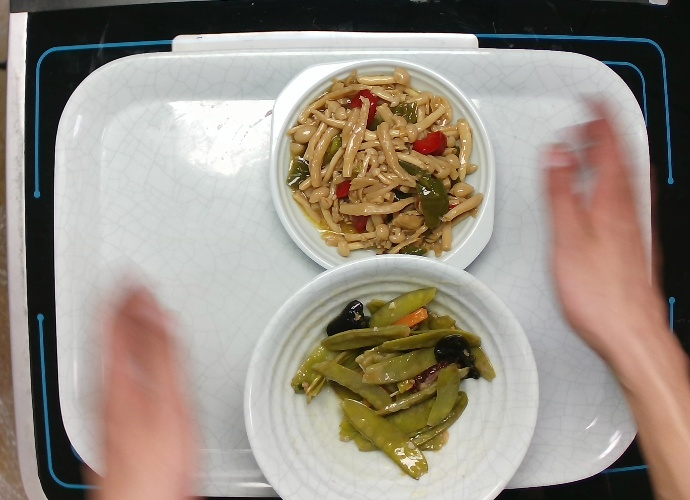JYsf-Shuang_Er_Pan: (266, 53, 503, 272)
JYsf-Xiao_Tang_Wan: (241, 249, 542, 500)
